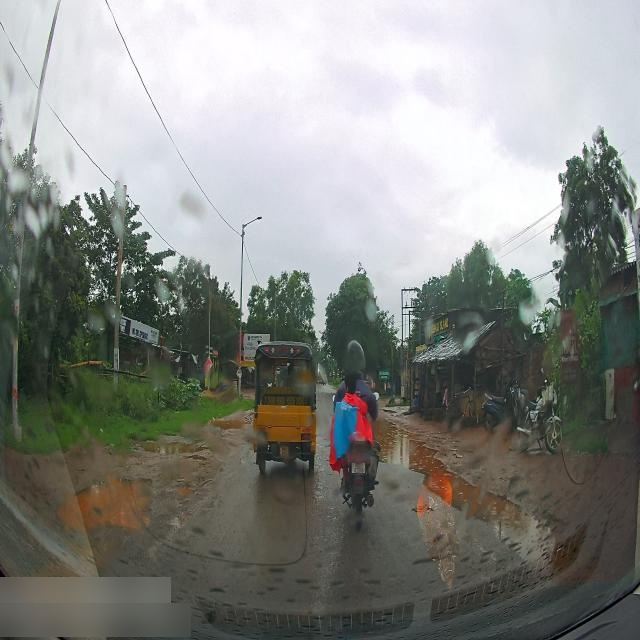pothole: (427, 466, 537, 538), (54, 470, 161, 534), (373, 422, 449, 466), (210, 414, 250, 444), (167, 478, 204, 504)
